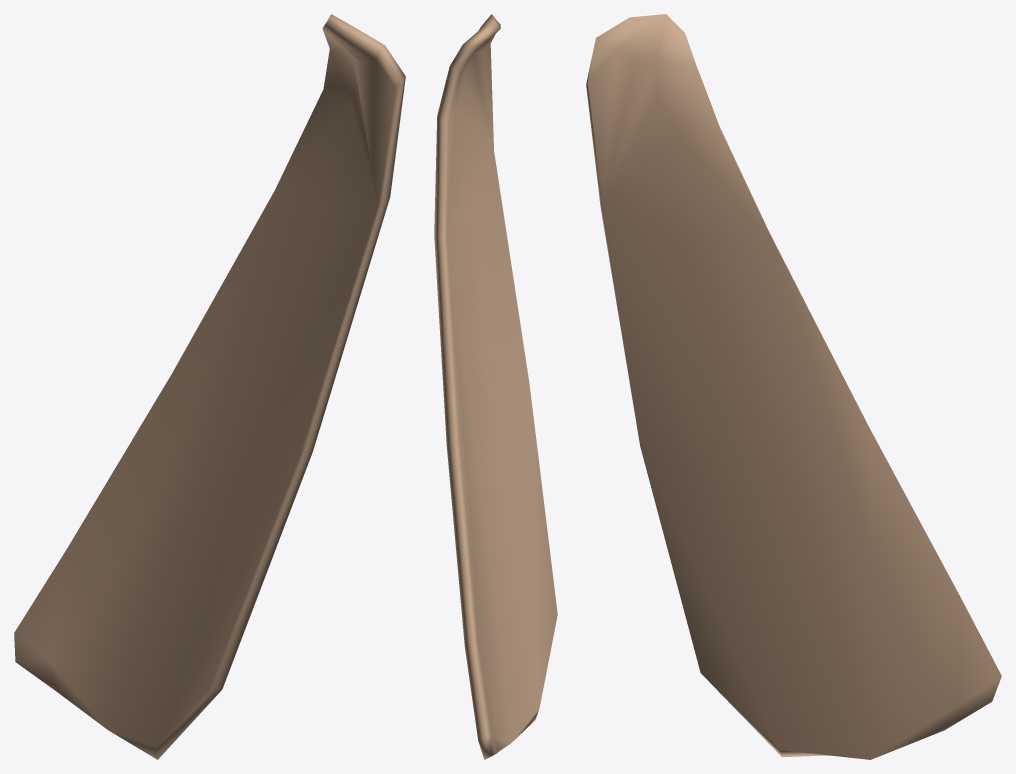
The picture shows the model from 3 angles, left to right: view 1: azimuth 30°, elevation 25°; view 2: azimuth 150°, elevation 25°; view 3: azimuth 270°, elevation 25°; orthographic projection. The views are drawn at different scales.
Parts seen in each view (by area): view 1: 左侧髌外侧支持带; view 2: 左侧髌外侧支持带; view 3: 左侧髌外侧支持带.
Boxes of the visible parts, x1=… form: 左侧髌外侧支持带: x1=14, y1=14, x2=405, y2=759; 左侧髌外侧支持带: x1=434, y1=14, x2=557, y2=759; 左侧髌外侧支持带: x1=586, y1=14, x2=1001, y2=759.
Bounding box in the file's own units: 0.0204 × 0.0721 × 0.0337.
